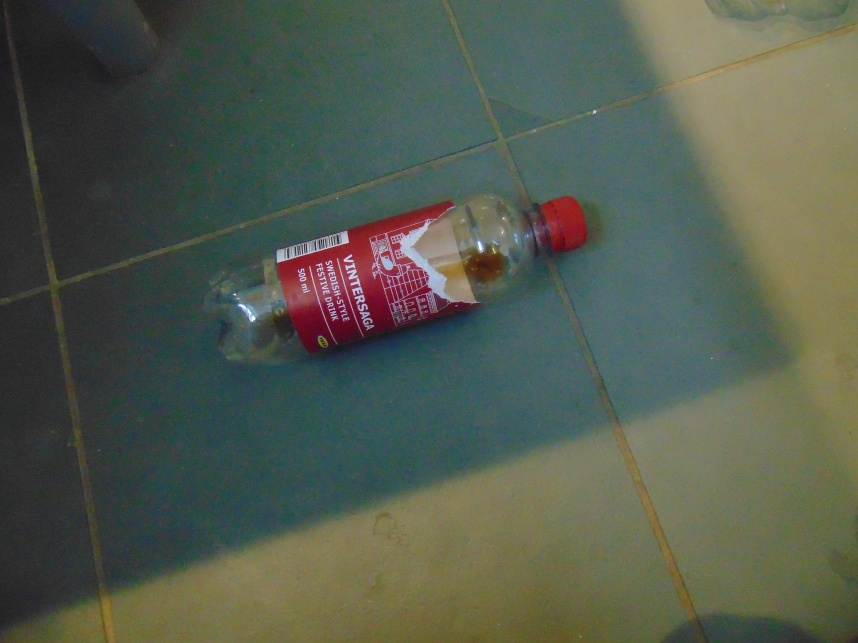plastic_bottle: (200, 193, 591, 368)
